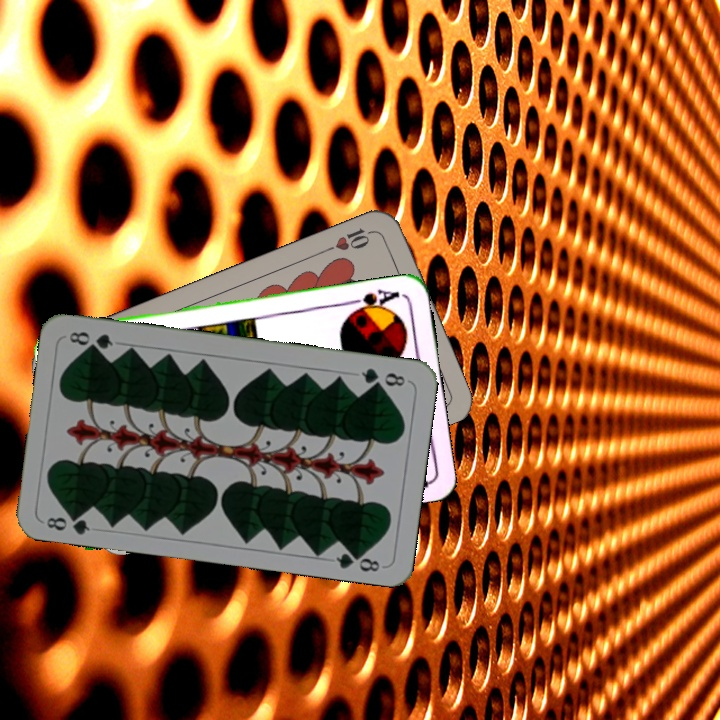G8: (42, 508, 93, 537), (357, 364, 411, 390)
H10: (321, 223, 378, 255)
SA: (344, 285, 402, 316)
